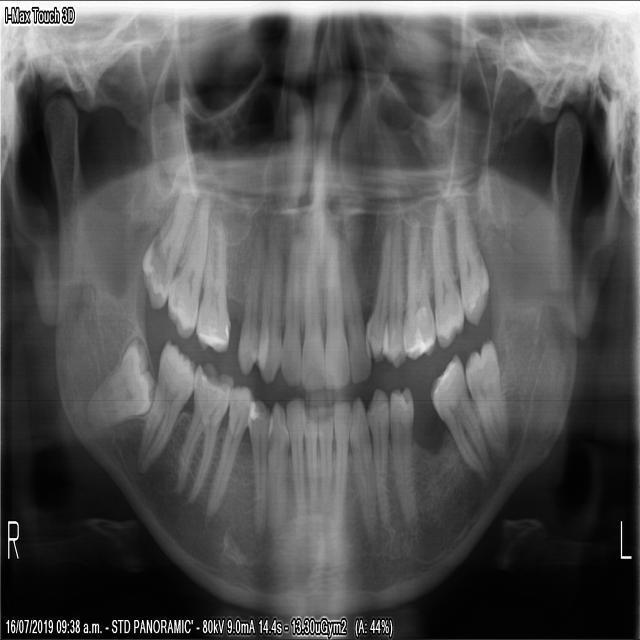LCD: (345, 389, 378, 545)
LID: (328, 393, 351, 545), (314, 398, 333, 524)
LIU: (338, 226, 371, 390), (321, 220, 351, 395)
LMD: (425, 348, 490, 479), (464, 332, 509, 457)
LMU: (450, 176, 492, 333), (427, 190, 466, 353), (401, 208, 435, 362)
LPMD: (387, 379, 419, 530), (364, 378, 393, 540)
LPMU: (361, 211, 390, 366), (380, 213, 406, 373)
RCD: (264, 391, 290, 536)
RCU: (254, 217, 283, 390)
RID: (284, 392, 307, 535), (299, 394, 318, 532)
RIU: (299, 213, 325, 396), (276, 224, 302, 394)
RMD: (131, 328, 204, 479), (174, 350, 236, 508), (81, 328, 154, 445)
RMU: (137, 170, 198, 316), (163, 192, 212, 342), (192, 209, 233, 355)
RPMD: (200, 378, 255, 522), (245, 393, 272, 543)
RPMU: (234, 229, 268, 381)
